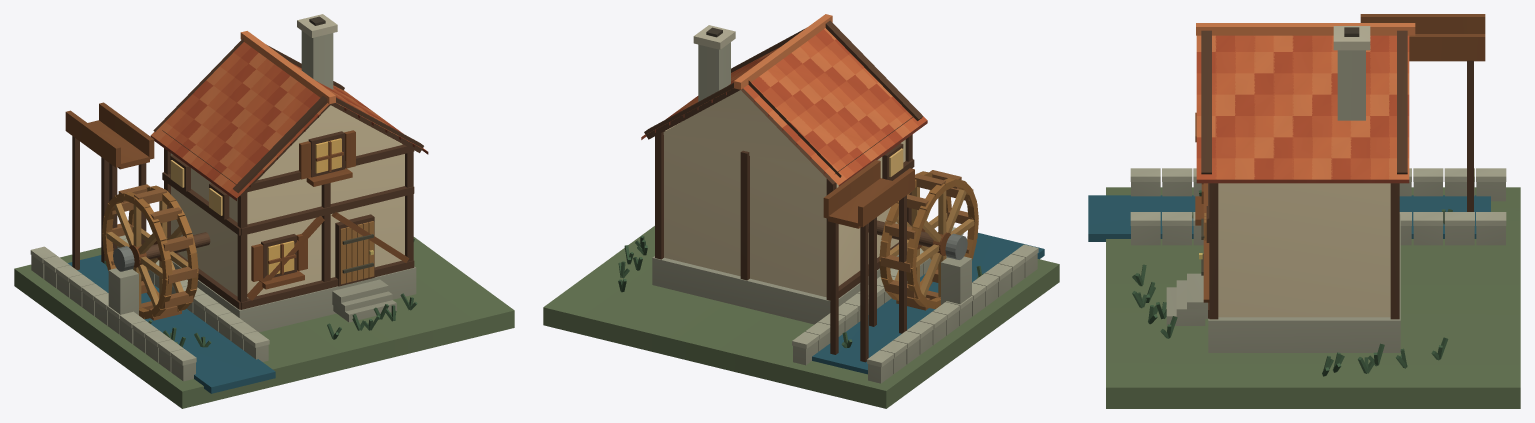
The model's file is moinho.glb.
3 renders of one model, left to right at view 1: azimuth 30°, elevation 25°; view 2: azimuth 150°, elevation 25°; view 3: azimuth 270°, elevation 25°, orthographic. The views are drawn at different scales.
Visible parts, largest first — view 1: Estrutura, Roda; view 2: Estrutura, Roda; view 3: Estrutura.
Part boxes in pixels (bbox=[...]): Estrutura: bbox=[14, 14, 514, 408]; Roda: bbox=[102, 184, 198, 320]; Estrutura: bbox=[543, 14, 1059, 408]; Roda: bbox=[879, 170, 978, 310]; Estrutura: bbox=[1088, 14, 1520, 408].
Bounding box in the file's own units: 8 × 5.95 × 7.3.
